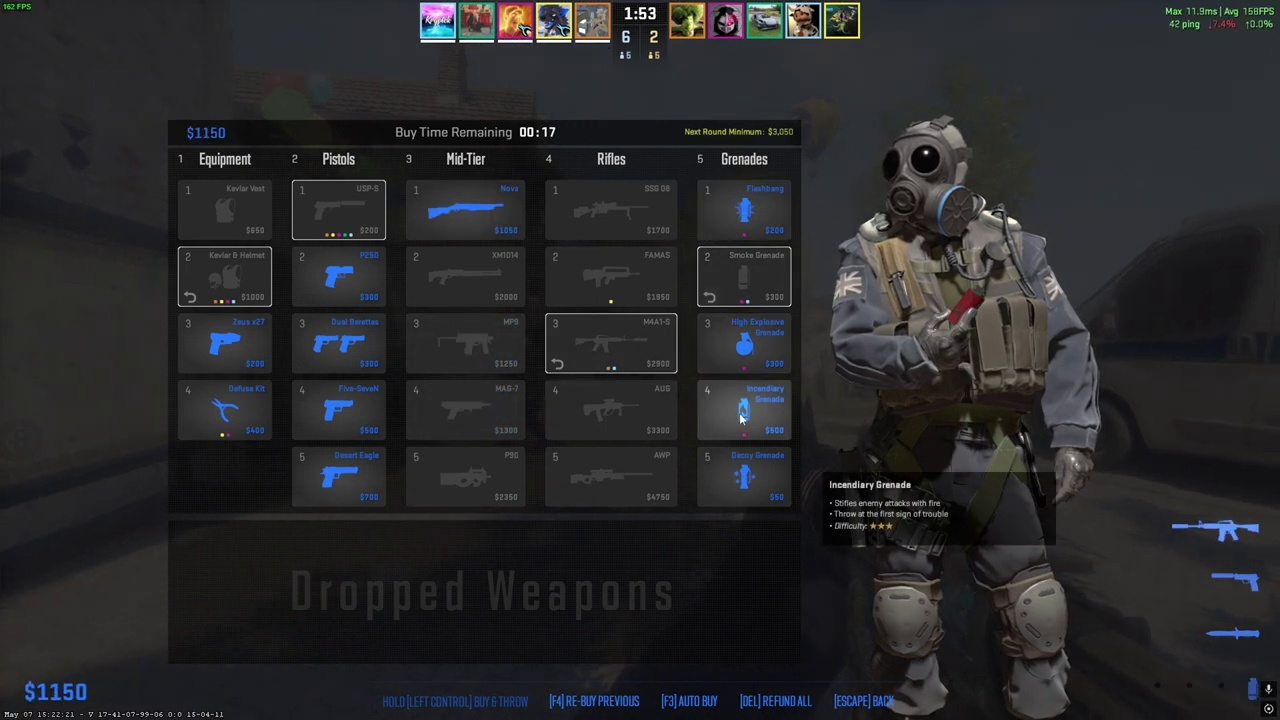CT: (854, 122, 1077, 720)
